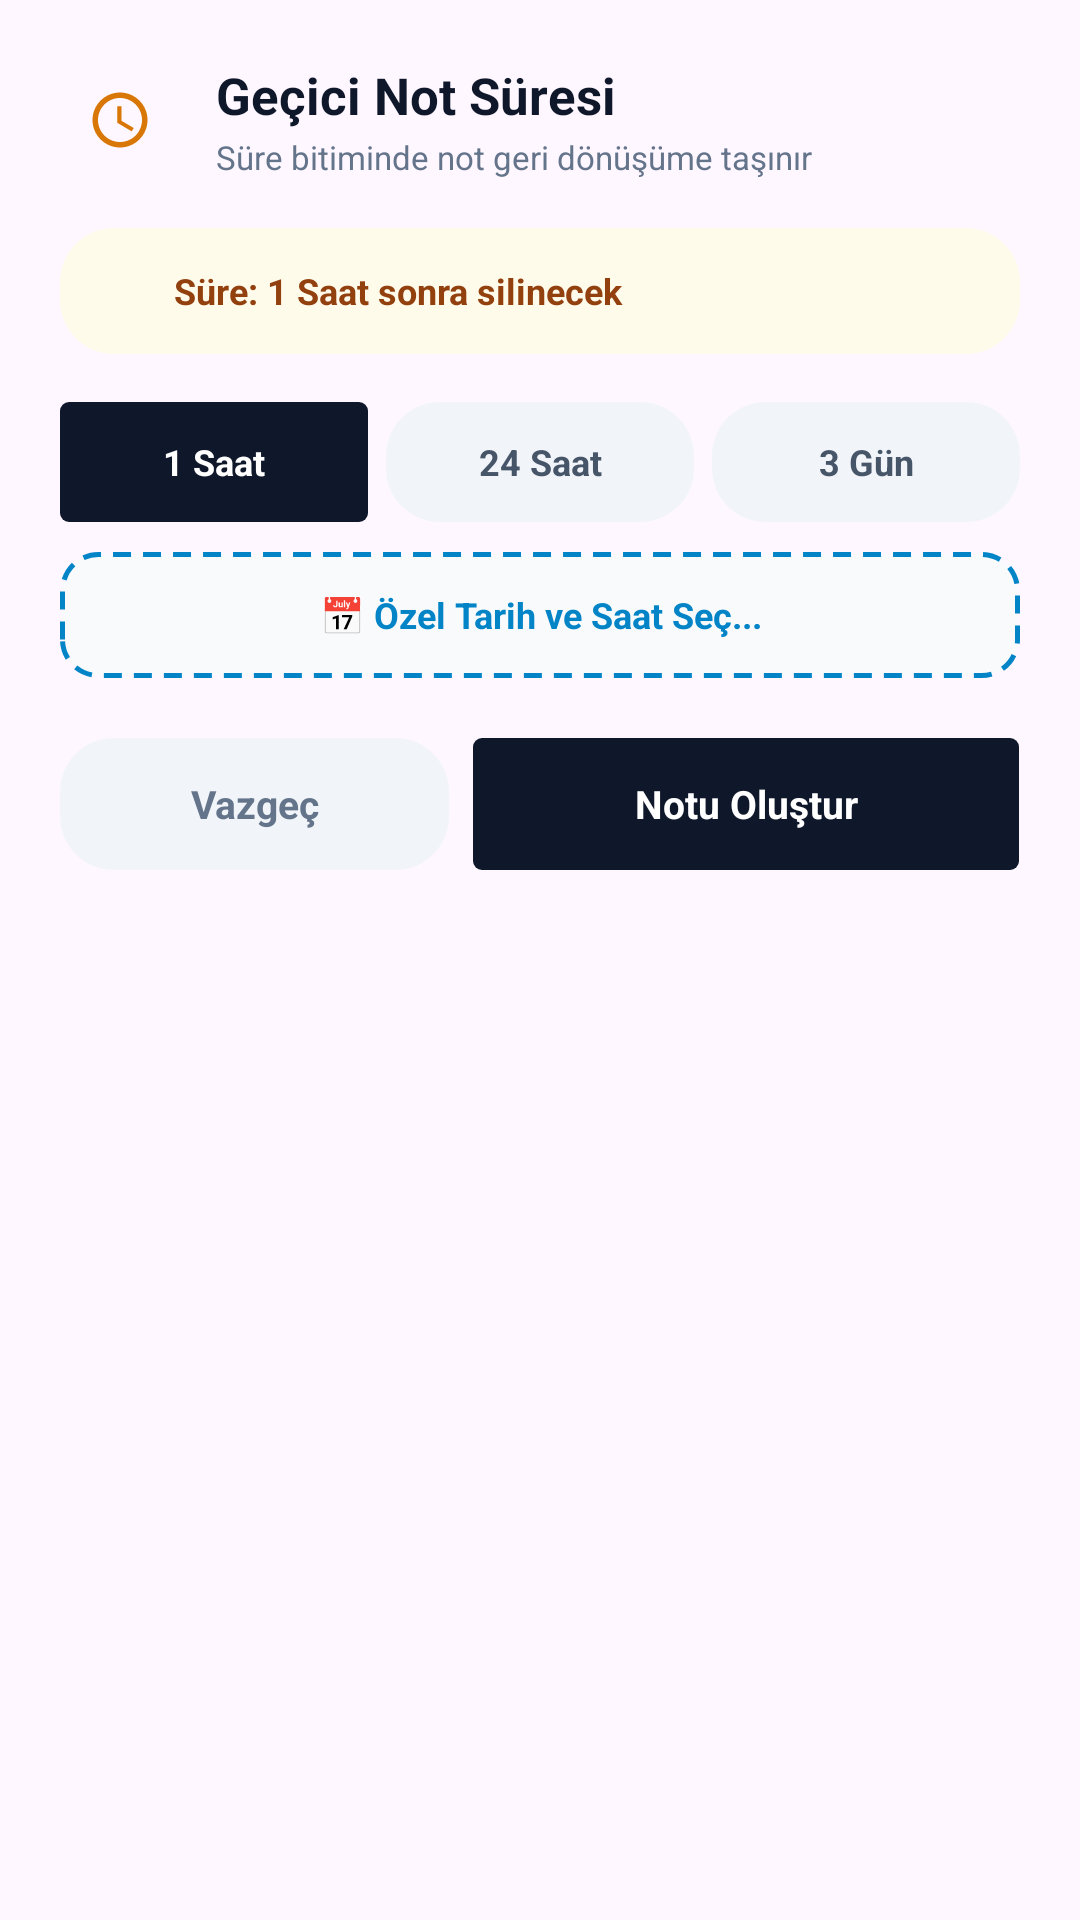

Icons on this 1080*1920 Android screen, each with its box as (x1, y1, x2, y2):
time: (92, 92, 148, 148)
